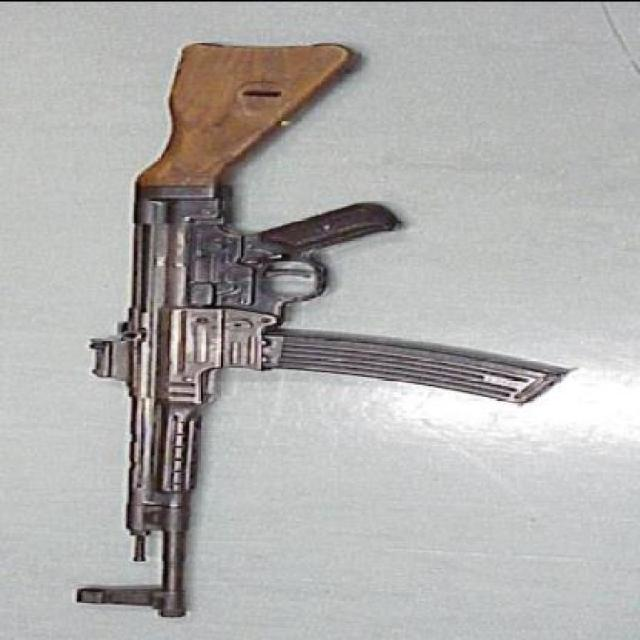weapon: (74, 38, 577, 616)
